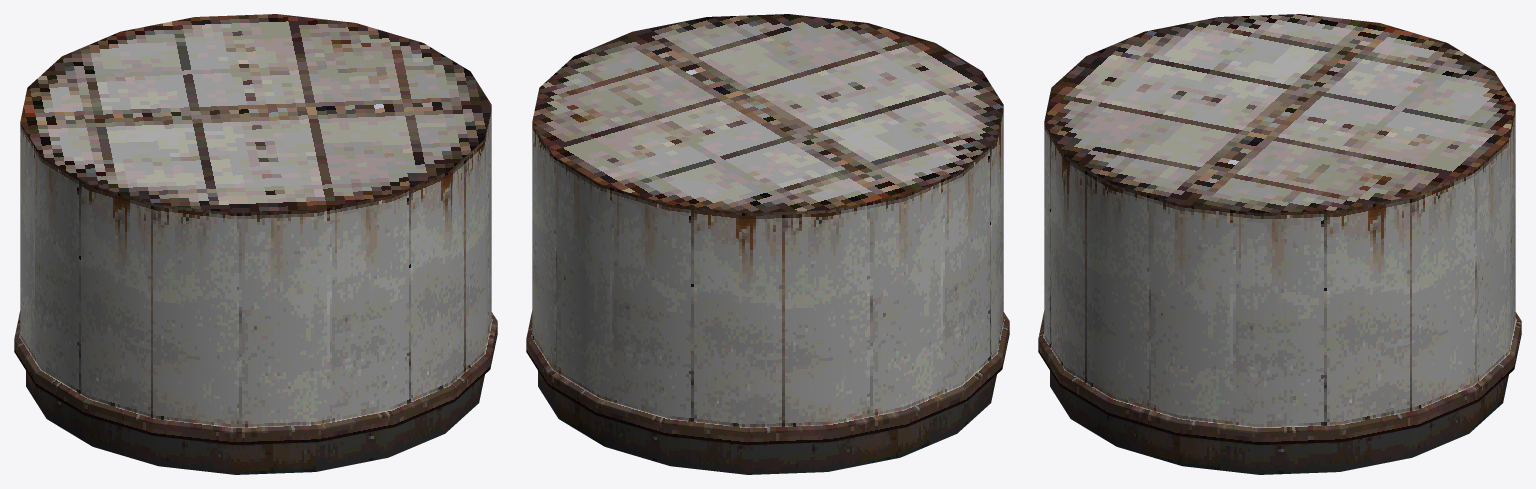
File: liquid_reservoir_1.glb
3 views of the same model, side by side, from view 1: azimuth 30°, elevation 25°; view 2: azimuth 150°, elevation 25°; view 3: azimuth 270°, elevation 25° (orthographic).
Parts seen in each view (by area): view 1: Liquid_reservoir_1; view 2: Liquid_reservoir_1; view 3: Liquid_reservoir_1.
Part boxes in pixels (x1,y1,x2,y2): Liquid_reservoir_1: (14, 14, 497, 474); Liquid_reservoir_1: (526, 14, 1009, 474); Liquid_reservoir_1: (1038, 14, 1521, 474).
Bounding box in the file's own units: 10.65 × 6.42 × 10.65.
Materials: 1 (1 with a texture image).
